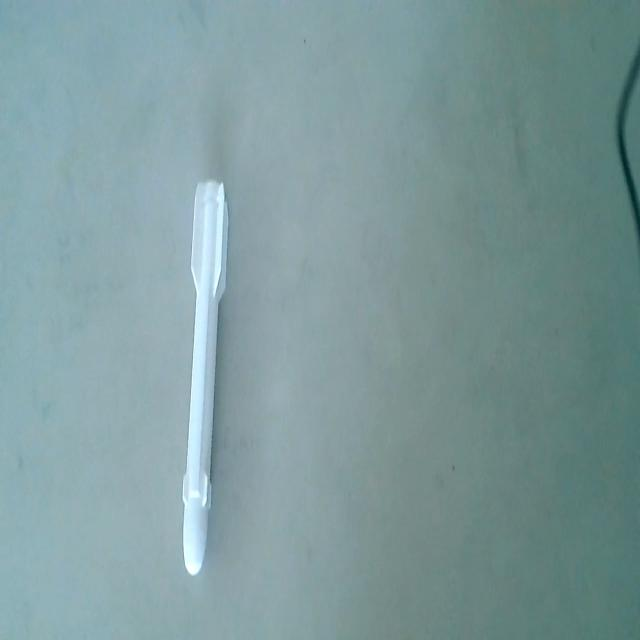Rocket: (181, 176, 233, 575)
